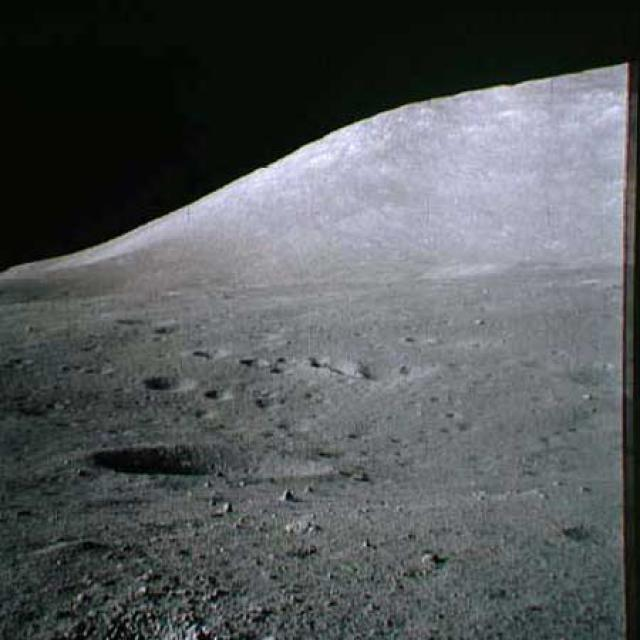crater: (88, 434, 340, 490), (344, 356, 448, 386), (132, 369, 198, 396), (185, 340, 229, 366), (202, 379, 239, 405), (148, 320, 189, 340), (110, 315, 146, 329)
